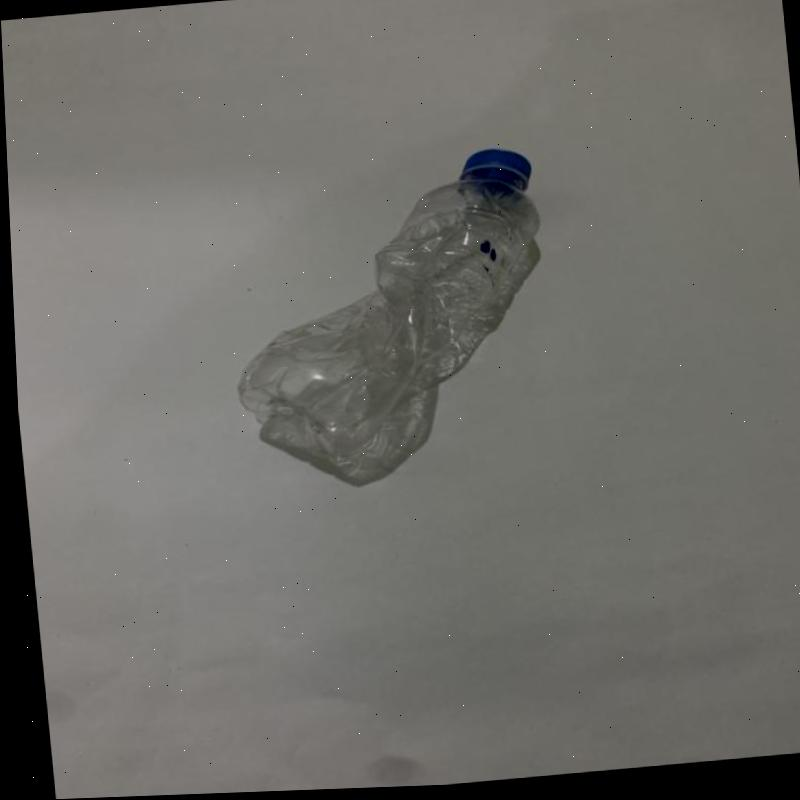botella: (215, 150, 560, 476)
